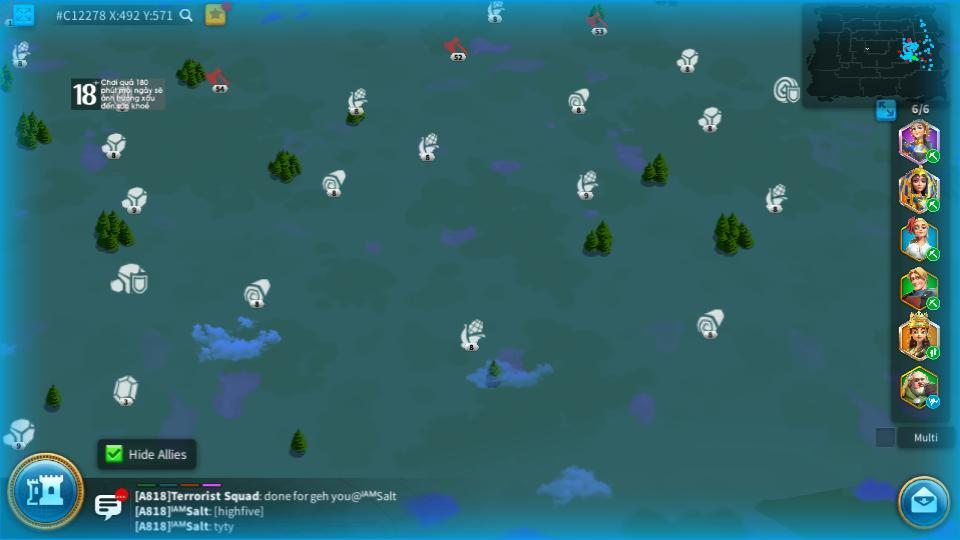gem-z-out: (111, 375, 140, 406)
march_farming: (924, 197, 939, 212), (924, 149, 939, 162), (925, 297, 941, 308), (926, 250, 940, 261)
march_idle: (925, 396, 942, 408)
march_marching: (925, 345, 941, 359)
